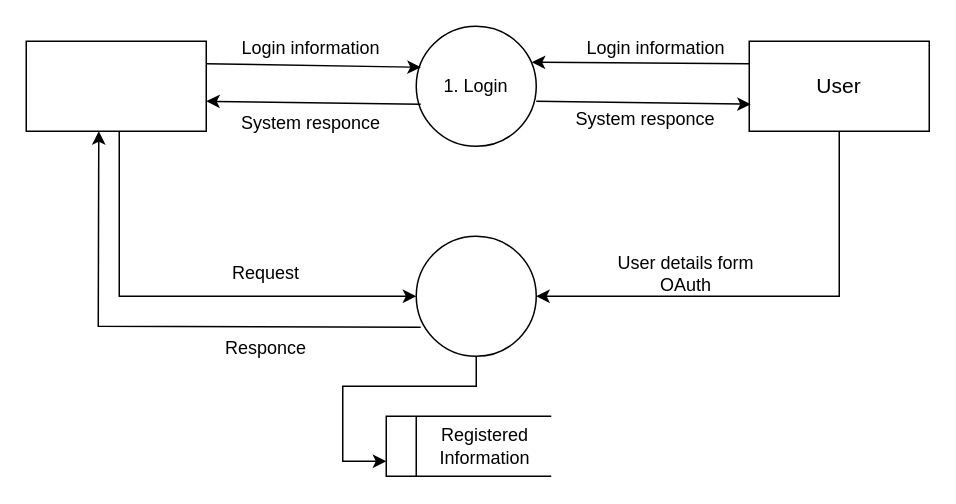
Image size: 956x504. Some labels were removed from this diagram. The shapes that lost their labels are listed below. From the top down, each one's centre as x and y in pixels, then its label:
[115,85]: Admin
[475,295]: 2. User Information
